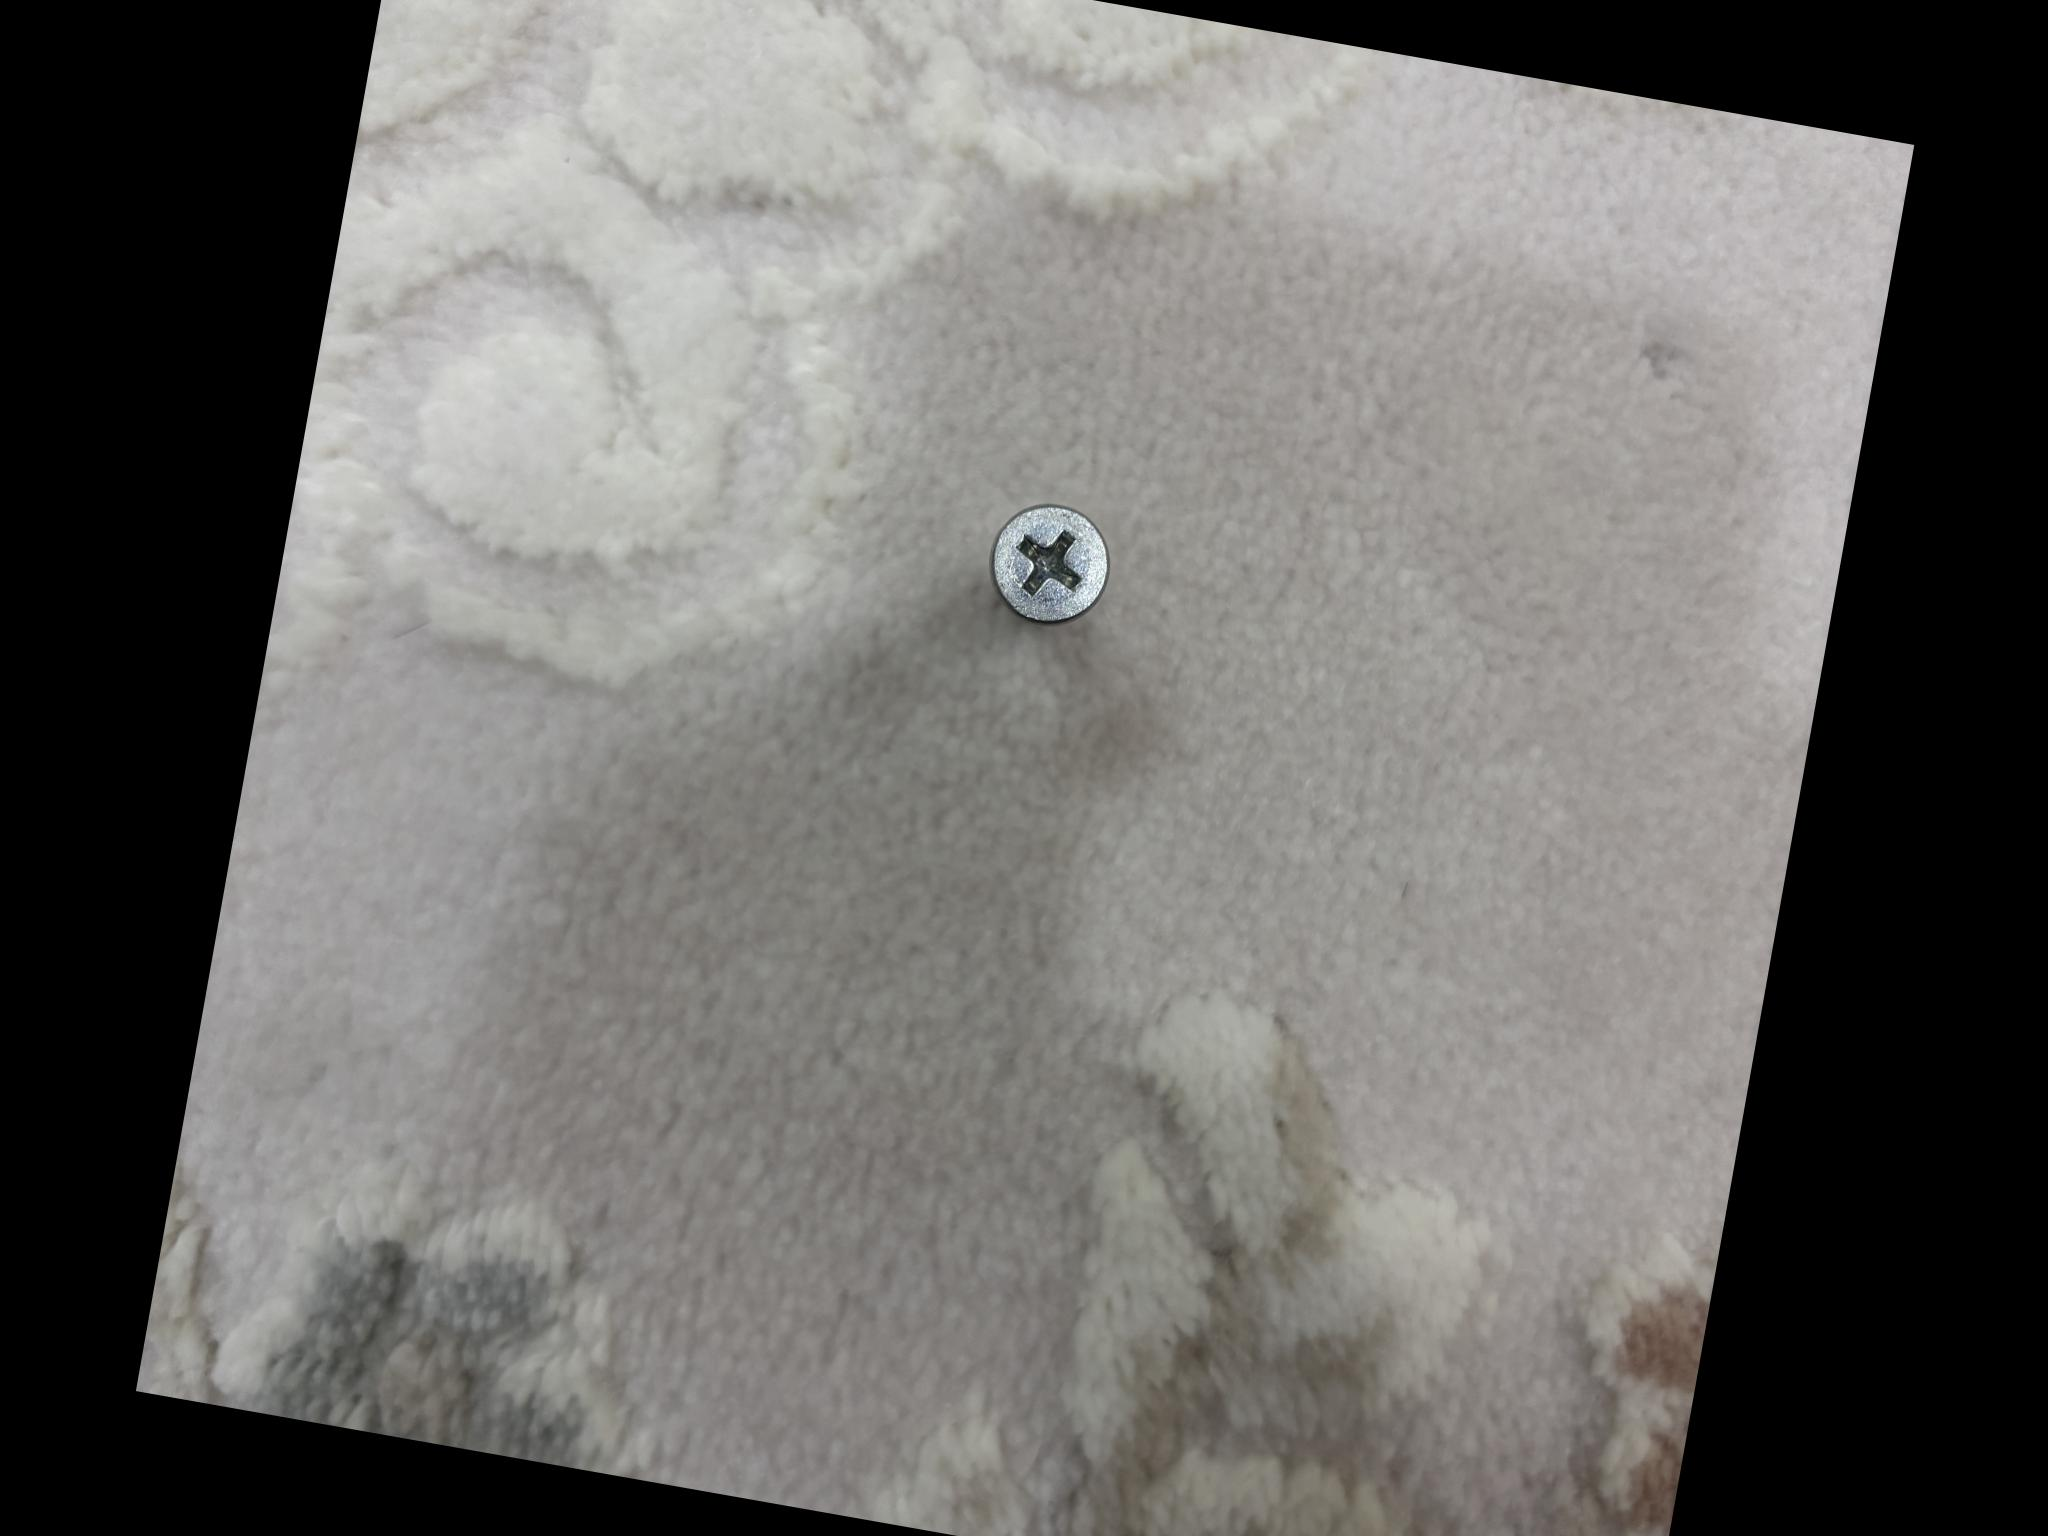PH: (1058, 478, 1176, 595)
